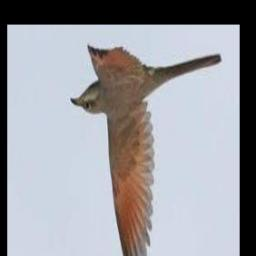Cuckoo: (70, 47, 221, 256)
